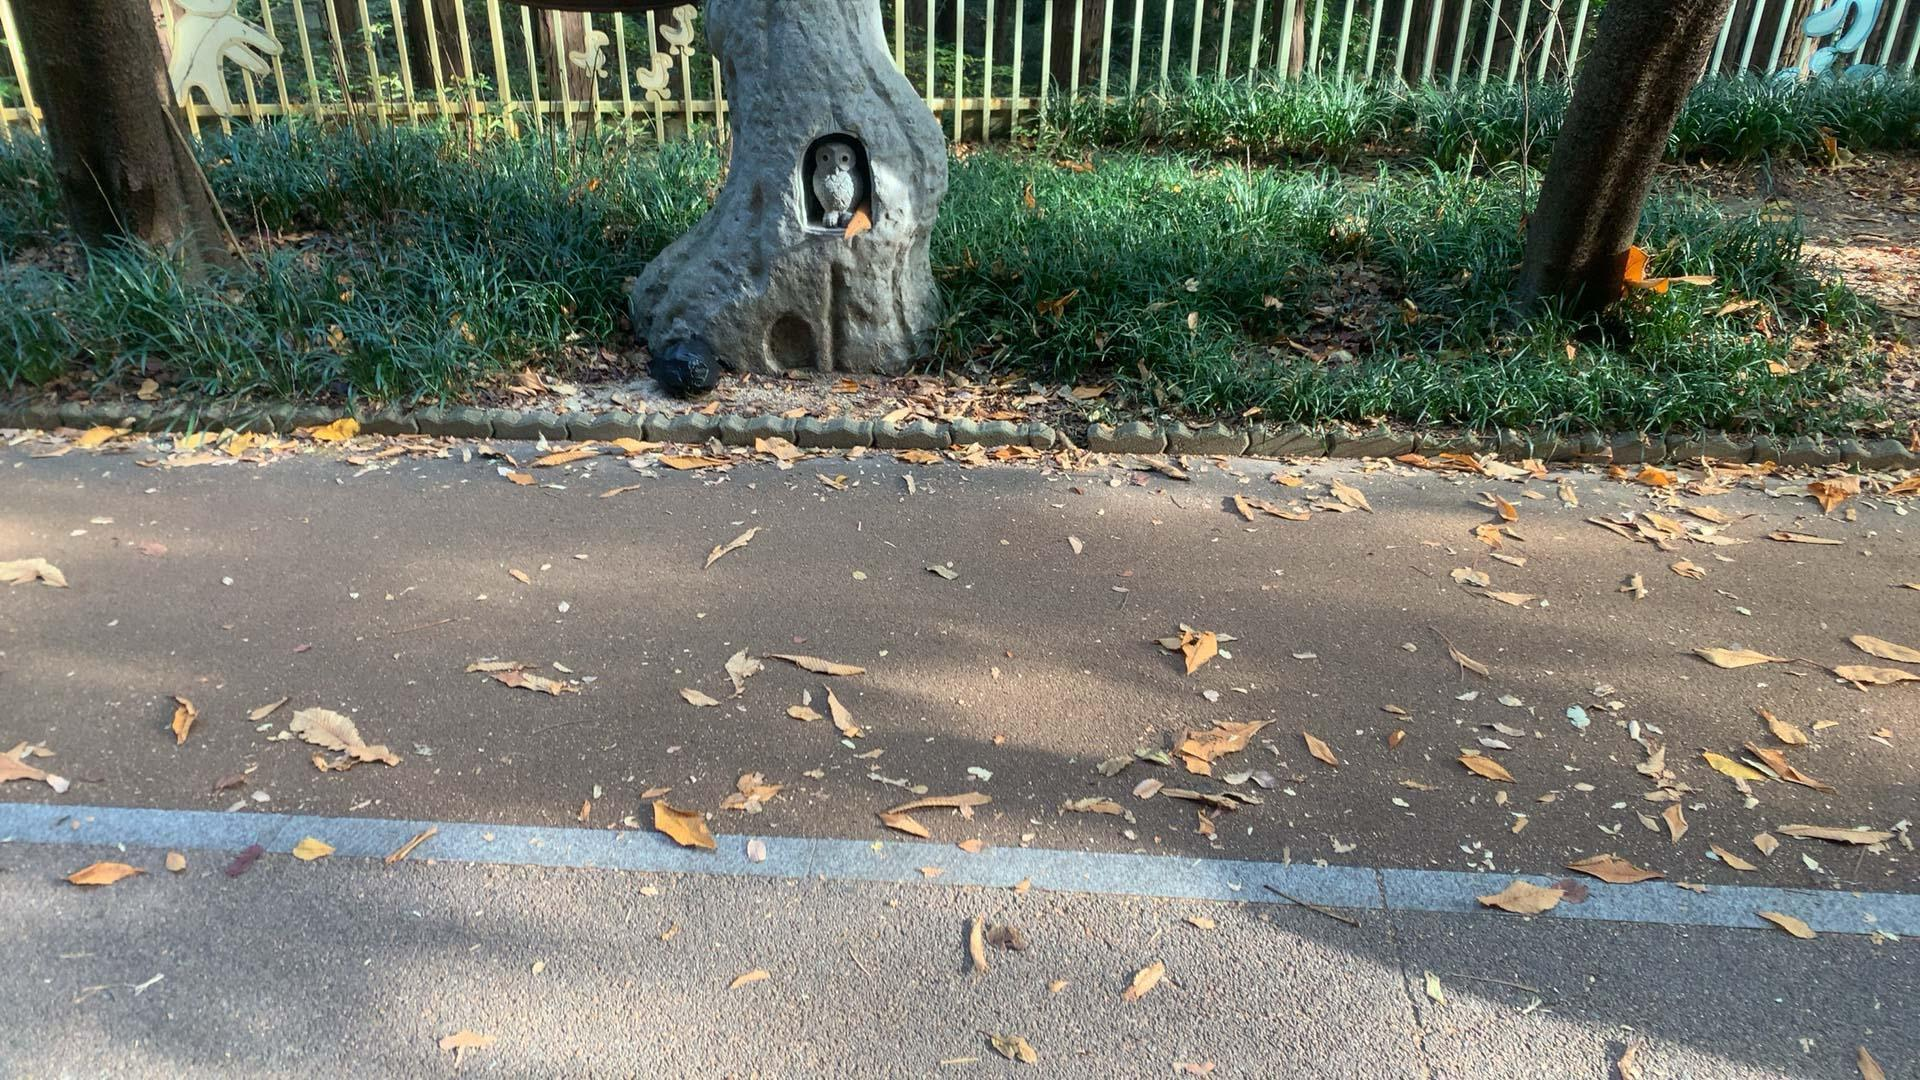black_bag: (650, 328, 723, 396)
